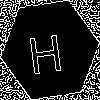H: (25, 25, 64, 75)
